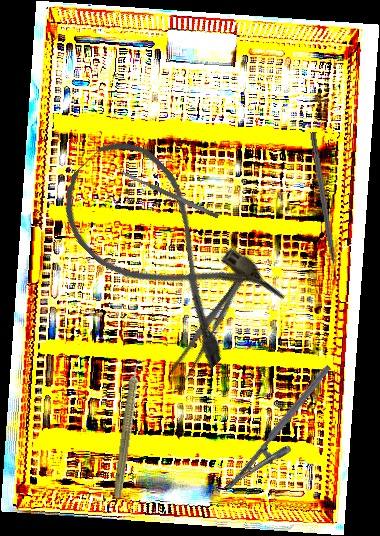Cannula: (41, 124, 289, 375)
Dressing Forceps: (161, 264, 255, 395)
Handpiece: (110, 352, 148, 499)
Hook Surgical: (308, 131, 341, 287)
Needle Holder: (222, 363, 349, 507)
Spatula Surgical: (118, 168, 220, 220)
